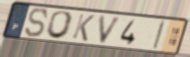4: (118, 19, 137, 47)
I: (151, 19, 167, 51)
K: (70, 12, 96, 43)
O: (44, 10, 76, 40)
S: (24, 7, 50, 39)
V: (98, 14, 124, 46)
